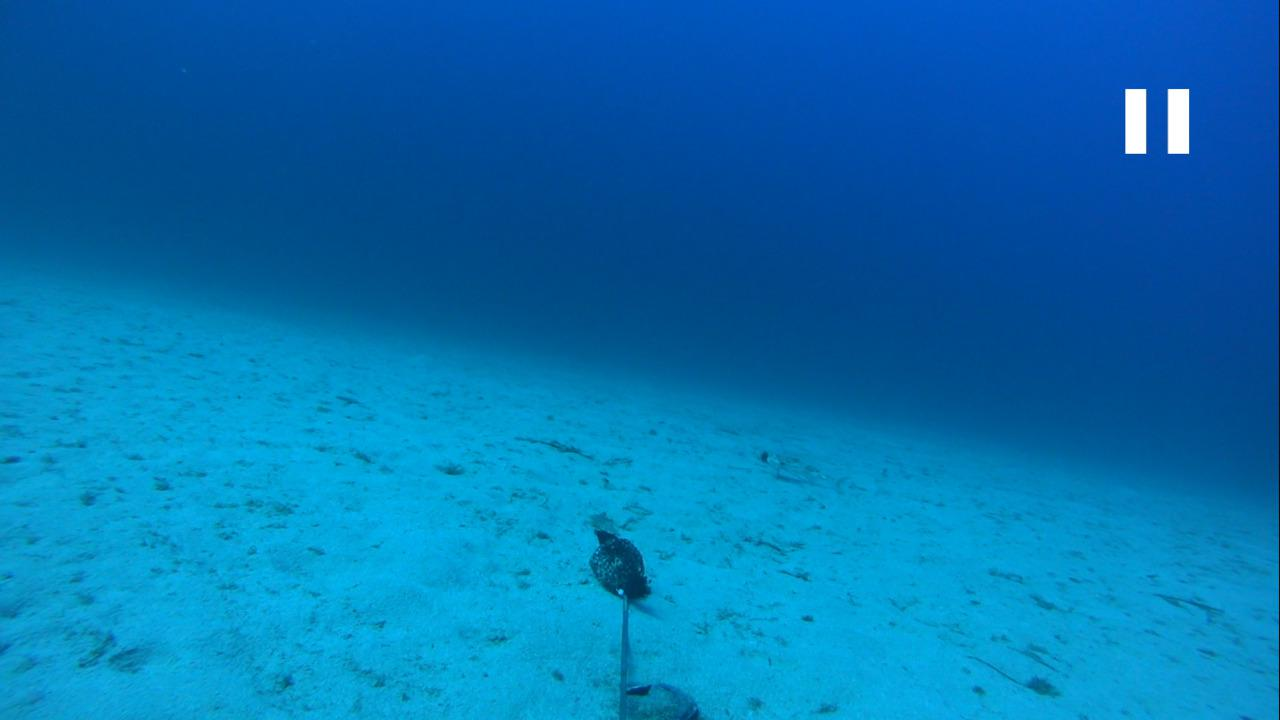dactylopterus: (742, 441, 857, 495)
